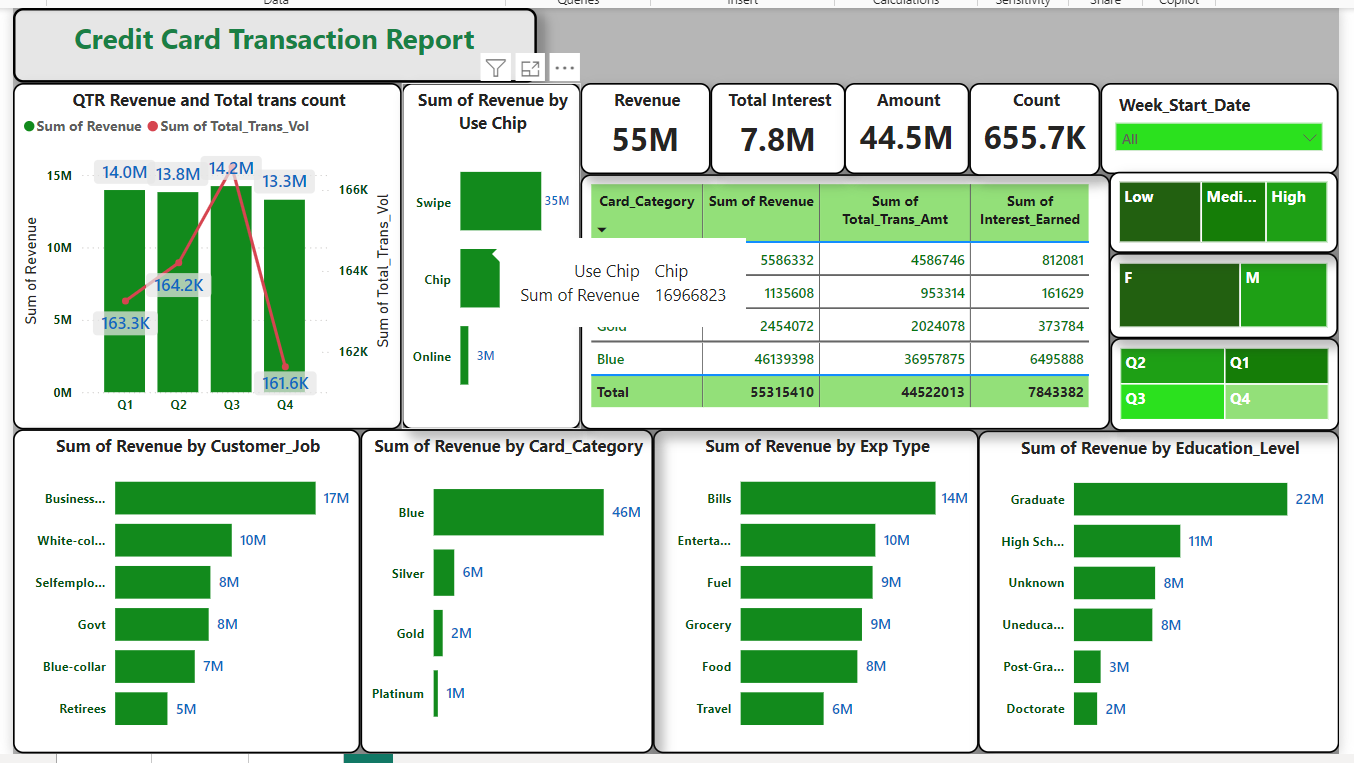

What the dashboard file says about the page in this screenshot:
{"tool":"powerbi","page":{"name":"Page 2","canvas":[1280,720],"ordinal":1},"visuals":[{"type":"textbox","box":[0,0,505.5,72.4],"z":0},{"type":"lineStackedColumnComboChart","title":"QTR Revenue and Total trans count","fields":{"Category":["credit_card.Qtr"],"Y":["Sum(credit_card.Revenue)"],"Y2":["Sum(credit_card.Total_Trans_Vol)"]},"box":[0,72.4,375.2,334.2],"z":1000},{"type":"barChart","fields":{"Category":["credit_card.Exp Type"],"Y":["Sum(credit_card.Revenue)"]},"box":[617.5,406.2,314.2,312.9],"z":2000},{"type":"barChart","fields":{"Y":["Sum(credit_card.Revenue)"],"Category":["customer.Education_Level"]},"box":[931.7,407.5,348.5,311.5],"z":3000},{"type":"barChart","fields":{"Category":["customer.Customer_Job"],"Y":["Sum(credit_card.Revenue)"]},"box":[0,406.2,334.8,312.9],"z":4000},{"type":"barChart","fields":{"Category":["credit_card.Card_Category"],"Y":["Sum(credit_card.Revenue)"]},"box":[334.8,406.2,282.7,312.9],"z":5000},{"type":"barChart","fields":{"Y":["Sum(credit_card.Revenue)"],"Category":["credit_card.Use Chip"]},"box":[375.2,72.4,172.5,334.2],"z":6000},{"type":"tableEx","fields":{"Values":["credit_card.Card_Category","Sum(credit_card.Revenue)","Sum(credit_card.Total_Trans_Amt)","Sum(credit_card.Interest_Earned)"]},"box":[547.7,160.5,511.5,246.1],"z":7000},{"type":"card","title":"Revenue","fields":{"Values":["Sum(credit_card.Revenue)"]},"box":[547.7,72.4,125.5,88.1],"z":8000},{"type":"card","title":"Total Interest","fields":{"Values":["Sum(credit_card.Interest_Earned)"]},"box":[673.2,72.4,130.3,88.1],"z":9000},{"type":"card","title":"Amount","fields":{"Values":["Sum(credit_card.Total_Trans_Amt)"]},"box":[802.3,72.4,120.6,88.1],"z":10000},{"type":"card","title":"Count","fields":{"Values":["Sum(credit_card.Total_Trans_Vol)"]},"box":[922.9,72.4,126.7,89.3],"z":11000},{"type":"slicer","fields":{"Values":["credit_card.Week_Start_Date"]},"box":[1049.6,72.4,229.2,88.1],"z":12000},{"type":"treemap","fields":{"Group":["credit_card.Qtr"],"Values":["CountNonNull(credit_card.Client_Num)"]},"box":[1059.3,318.5,220.8,89.3],"z":13000},{"type":"treemap","fields":{"Values":["CountNonNull(credit_card.Client_Num)"],"Group":["customer.Gender"]},"box":[1058,236.5,220.8,82],"z":14000},{"type":"treemap","fields":{"Values":["CountNonNull(credit_card.Client_Num)"],"Group":["customer.Income_group"]},"box":[1058,158,220.8,78.4],"z":15000}]}

Visuals, with their boxes in screenshot pixels (x1, y1, x2, y2):
textbox: locate(4, 4, 531, 79)
"QTR Revenue and Total trans count" lineStackedColumnComboChart: locate(4, 79, 395, 428)
barChart - credit_card.Exp Type x Sum(credit_card.Revenue): locate(648, 427, 975, 754)
barChart - Sum(credit_card.Revenue) x customer.Education_Level: locate(975, 429, 1339, 754)
barChart - customer.Customer_Job x Sum(credit_card.Revenue): locate(4, 427, 353, 754)
barChart - credit_card.Card_Category x Sum(credit_card.Revenue): locate(353, 427, 648, 754)
barChart - Sum(credit_card.Revenue) x credit_card.Use Chip: locate(395, 79, 575, 428)
tableEx - credit_card.Card_Category x Sum(credit_card.Revenue): locate(575, 171, 1108, 428)
"Revenue" card: locate(575, 79, 706, 171)
"Total Interest" card: locate(706, 79, 842, 171)
"Amount" card: locate(840, 79, 966, 171)
"Count" card: locate(966, 79, 1098, 172)
slicer - credit_card.Week_Start_Date: locate(1098, 79, 1338, 171)
treemap - credit_card.Qtr x CountNonNull(credit_card.Client_Num): locate(1109, 336, 1339, 429)
treemap - CountNonNull(credit_card.Client_Num) x customer.Gender: locate(1107, 250, 1338, 336)
treemap - CountNonNull(credit_card.Client_Num) x customer.Income_group: locate(1107, 168, 1338, 250)
